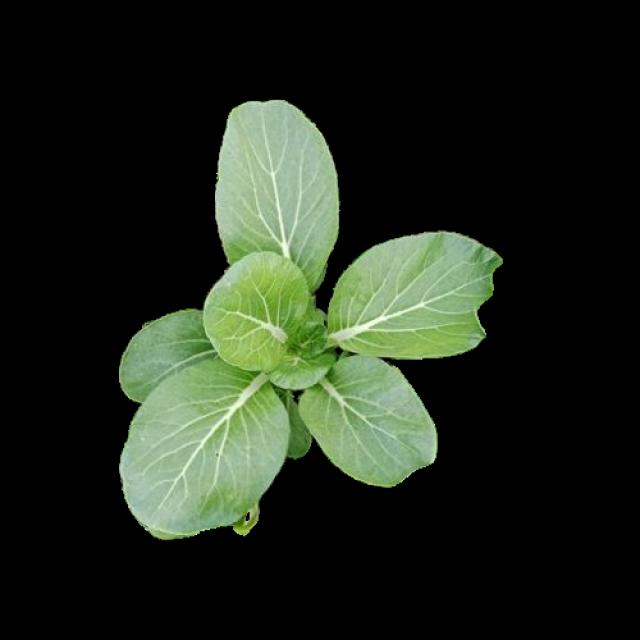not-mature: (120, 98, 507, 542)
unhealthy: (124, 370, 291, 532), (328, 235, 500, 356)
